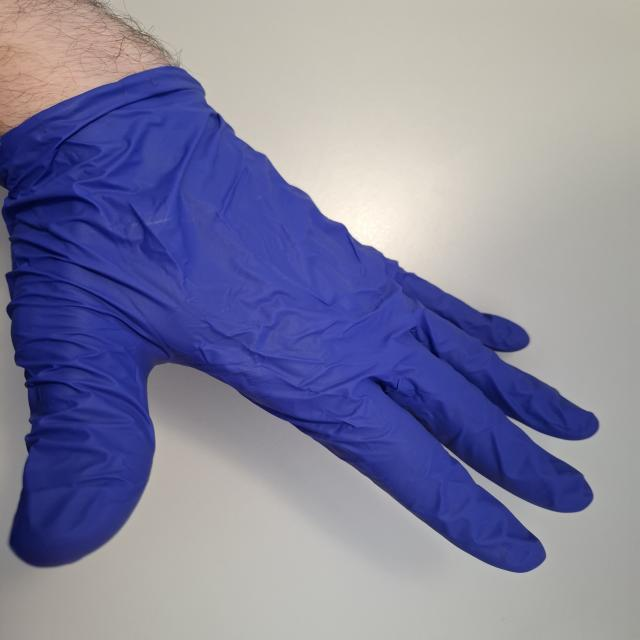glove_on: (0, 62, 610, 576)
